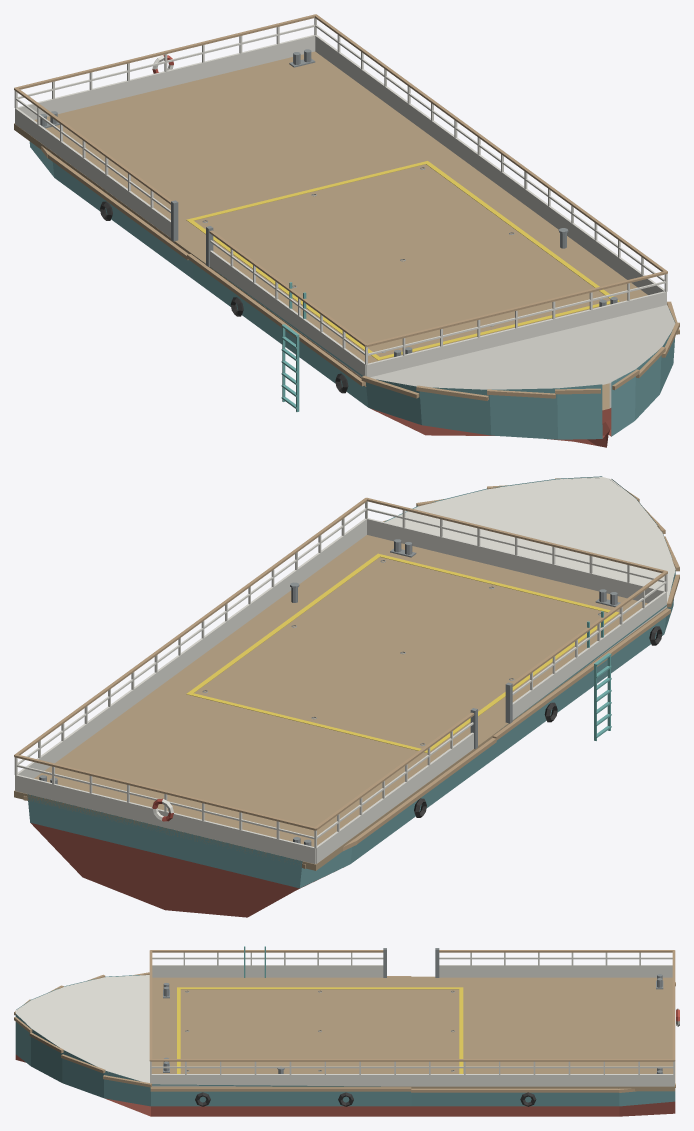
Rendered from boat_hull.fbx.
The picture shows the model from 3 angles, top to bottom: view 1: azimuth 30°, elevation 25°; view 2: azimuth 150°, elevation 25°; view 3: azimuth 270°, elevation 25°; orthographic projection. The views are drawn at different scales.
Parts seen in each view (by area): view 1: boat_hull; view 2: boat_hull; view 3: boat_hull.
Part boxes in pixels (bbox=[...]): boat_hull: bbox=[14, 14, 679, 447]; boat_hull: bbox=[14, 476, 679, 917]; boat_hull: bbox=[14, 946, 679, 1116].
Bounding box in the file's own units: 10.58 × 3.91 × 25.58.
